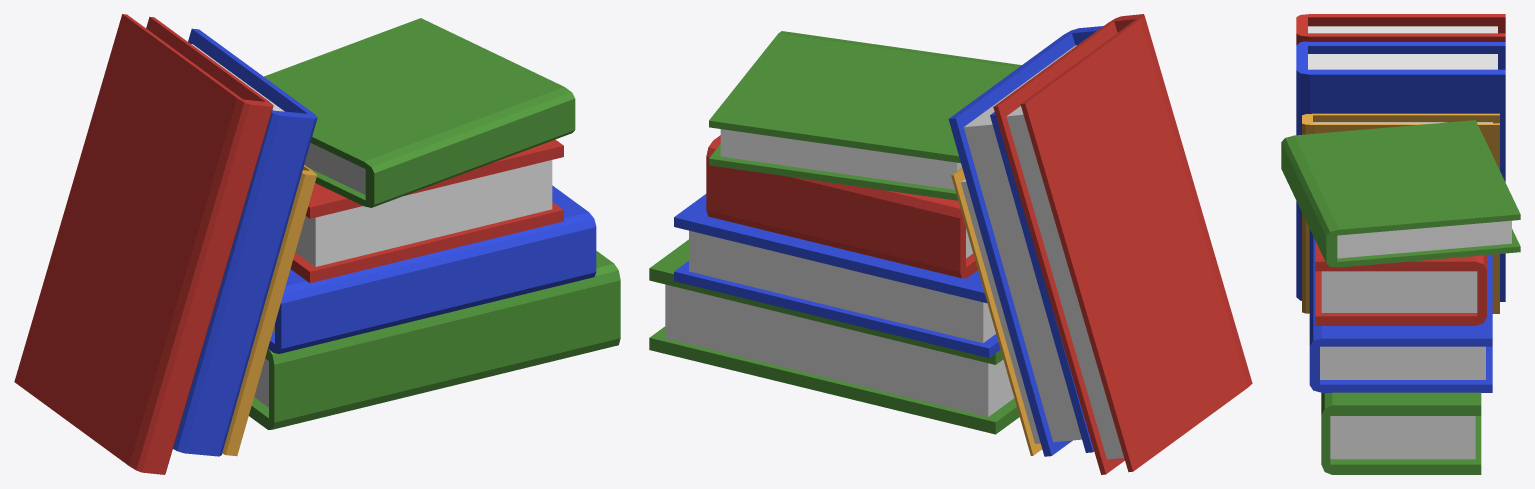
File: Books_2.fbx
3 renders of one model, left to right at view 1: azimuth 30°, elevation 25°; view 2: azimuth 150°, elevation 25°; view 3: azimuth 270°, elevation 25°, orthographic. The views are drawn at different scales.
Parts seen in each view (by area): view 1: livre_4; view 2: livre_4; view 3: livre_4.
Boxes of the visible parts, bbox=[...] form: livre_4: bbox=[14, 14, 620, 474]; livre_4: bbox=[649, 14, 1252, 474]; livre_4: bbox=[1281, 14, 1520, 474].
Size of the model in its own units: 50.91 by 34.59 by 24.92.
